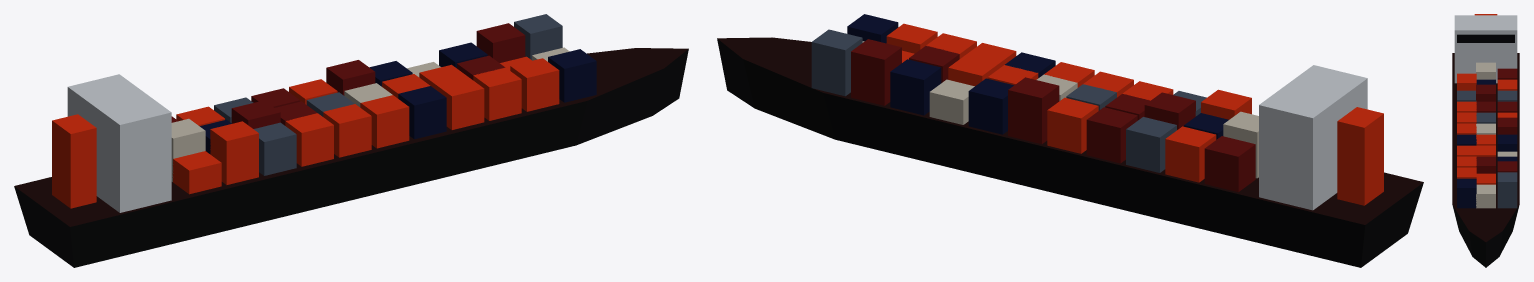
Rendered from mapship.glb.
3 views of the same model, side by side, from view 1: azimuth 30°, elevation 25°; view 2: azimuth 150°, elevation 25°; view 3: azimuth 270°, elevation 25° (orthographic). The views are drawn at different scales.
Parts seen in each view (by area): view 1: MapShip; view 2: MapShip; view 3: MapShip.
Part boxes in pixels (x1=…): MapShip: x1=14, y1=14, x2=688, y2=267; MapShip: x1=717, y1=14, x2=1423, y2=267; MapShip: x1=1452, y1=14, x2=1519, y2=267.
Size of the model in its own units: 1 by 0.2 by 0.15.
